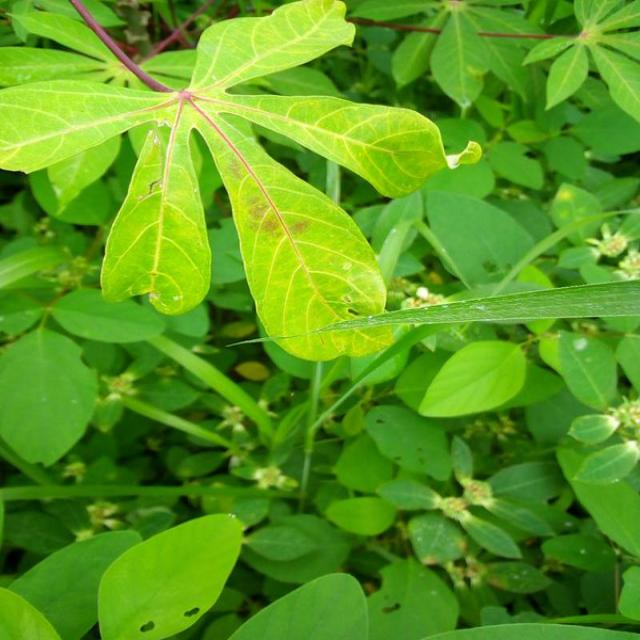cassava leaf: (1, 0, 482, 361), (96, 511, 244, 638)
